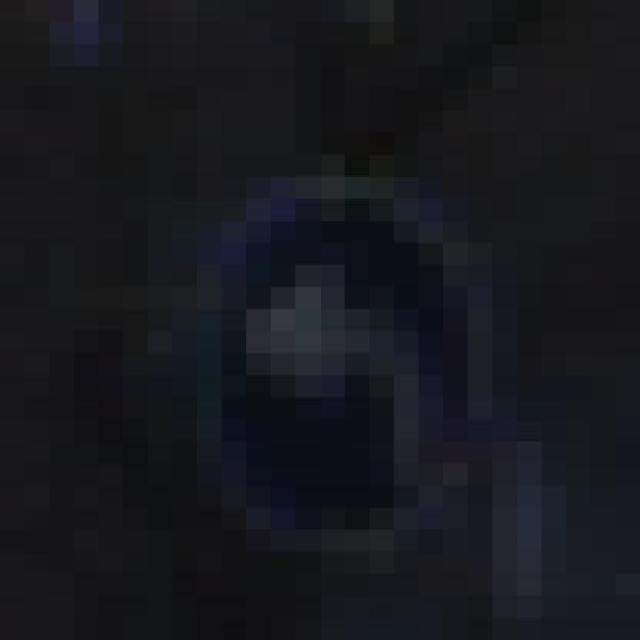Turn left ahead: (182, 168, 526, 566)
